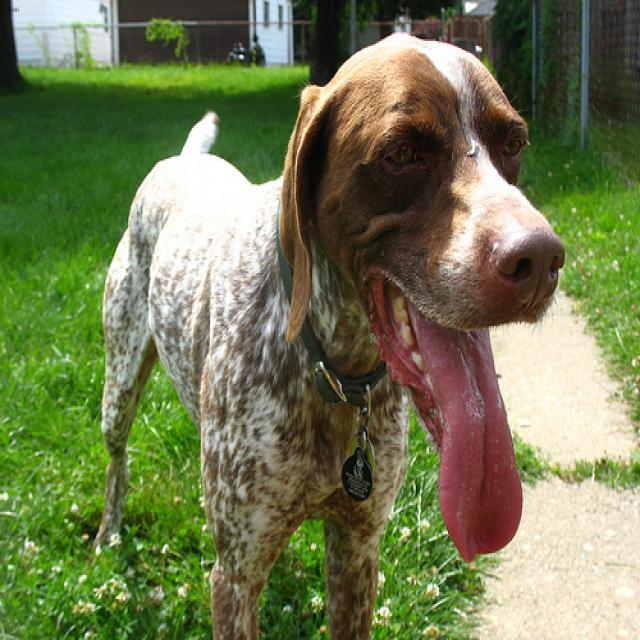dog-german_shorthaired: (88, 22, 571, 637)
